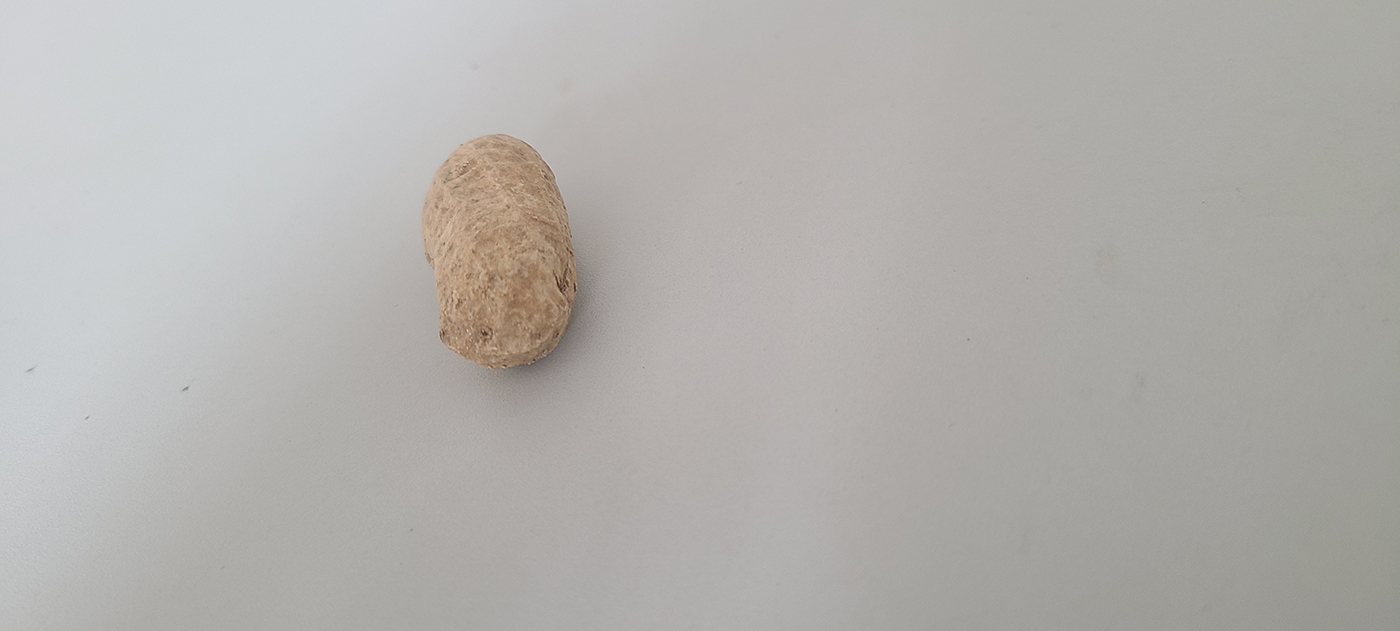h: (419, 133, 578, 366)
